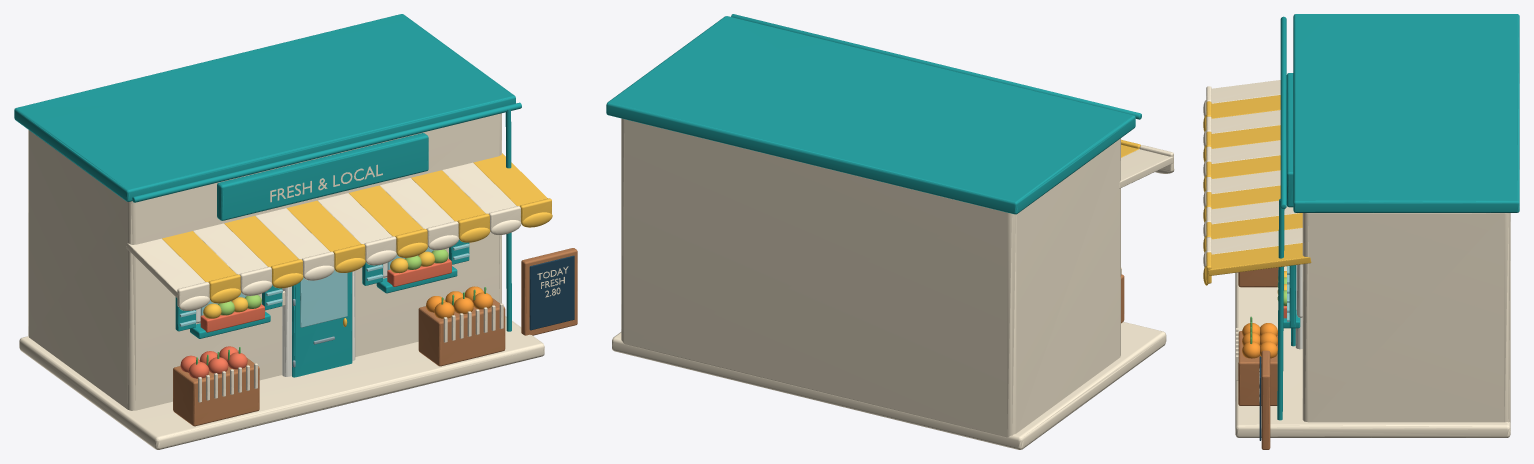
File: Market.fbx
3 views of the same model, side by side, from view 1: azimuth 30°, elevation 25°; view 2: azimuth 150°, elevation 25°; view 3: azimuth 270°, elevation 25° (orthographic). The views are drawn at different scales.
Parts seen in each view (by area): view 1: GEO-Body; view 2: GEO-Body; view 3: GEO-Body.
Boxes of the visible parts, x1,y1,x2,y2 form: GEO-Body: [14, 14, 577, 449]; GEO-Body: [606, 14, 1174, 449]; GEO-Body: [1203, 14, 1519, 449].
Bounding box in the file's own units: 8.15 × 4.29 × 5.18.
